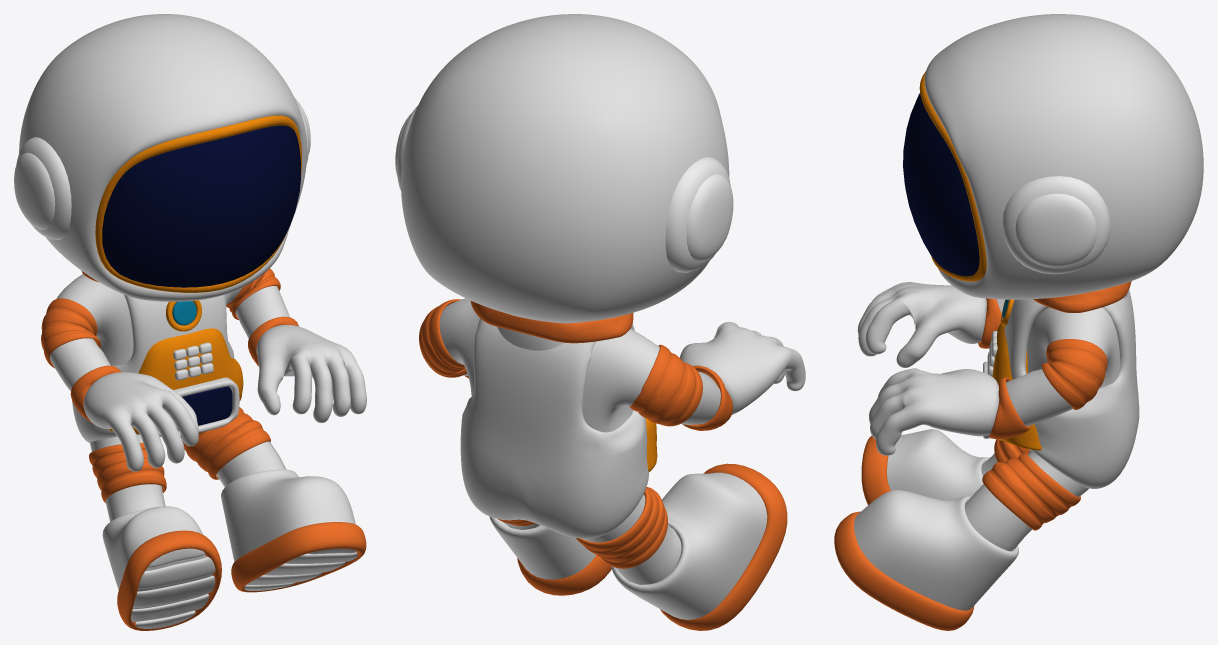
File: astronauta.glb
3 renders of one model, left to right at view 1: azimuth 30°, elevation 25°; view 2: azimuth 150°, elevation 25°; view 3: azimuth 270°, elevation 25°, orthographic. The views are drawn at different scales.
Visible parts, largest first — view 1: Cube.129, Cube.127, Cube.119, Cube.132, Cube.131, Cube.120, Cube.123, Cube.115, Cube.126, Cube.130, Cube.128, Cube.116 (+7 smaller); view 2: Cube.129, Cube.123, Cube.127, Cube.131, Cube.132, Cube.128, Cube.117, Cube.116, Cube.120, Cube.118, Cube.130, Cube.121; view 3: Cube.129, Cube.127, Cube.132, Cube.123, Cube.119, Cube.131, Cube.116, Cube.120, Cube.117, Cube.128, Cube.130, Cube.121 (+3 smaller).
Boxes of the visible parts, left/top/right/bottom form: Cube.129: left=19, top=14, right=307, bottom=301; Cube.127: left=102, top=469, right=366, bottom=630; Cube.119: left=102, top=125, right=300, bottom=287; Cube.132: left=83, top=325, right=366, bottom=471; Cube.131: left=49, top=274, right=289, bottom=391; Cube.120: left=89, top=407, right=270, bottom=502; Cube.123: left=72, top=294, right=234, bottom=442; Cube.115: left=95, top=115, right=301, bottom=292; Cube.126: left=108, top=328, right=243, bottom=437; Cube.130: left=90, top=435, right=286, bottom=521; Cube.128: left=41, top=268, right=280, bottom=368; Cube.116: left=14, top=99, right=310, bottom=229; Cube.129: left=401, top=14, right=729, bottom=323; Cube.123: left=460, top=318, right=648, bottom=538; Cube.127: left=489, top=463, right=787, bottom=630; Cube.131: left=439, top=298, right=720, bottom=432; Cube.132: left=680, top=322, right=805, bottom=414; Cube.128: left=419, top=299, right=702, bottom=426; Cube.117: left=397, top=106, right=730, bottom=272; Cube.116: left=395, top=114, right=733, bottom=261; Cube.120: left=498, top=487, right=667, bottom=568; Cube.118: left=470, top=301, right=633, bottom=343; Cube.130: left=503, top=494, right=681, bottom=584; Cube.121: left=465, top=365, right=732, bottom=430; Cube.129: left=924, top=14, right=1203, bottom=299; Cube.127: left=834, top=429, right=1018, bottom=630; Cube.132: left=857, top=282, right=999, bottom=455; Cube.123: left=1004, top=289, right=1139, bottom=488; Cube.119: left=903, top=93, right=979, bottom=276; Cube.131: left=980, top=292, right=1127, bottom=426; Cube.116: left=1015, top=193, right=1096, bottom=267; Cube.120: left=982, top=439, right=1080, bottom=530; Cube.117: left=1002, top=176, right=1110, bottom=274; Cube.128: left=1041, top=339, right=1107, bottom=409; Cube.130: left=965, top=450, right=1088, bottom=551; Cube.121: left=978, top=298, right=1030, bottom=439.
Bounding box in the file's own units: 0.9635 × 1.85 × 1.09.
